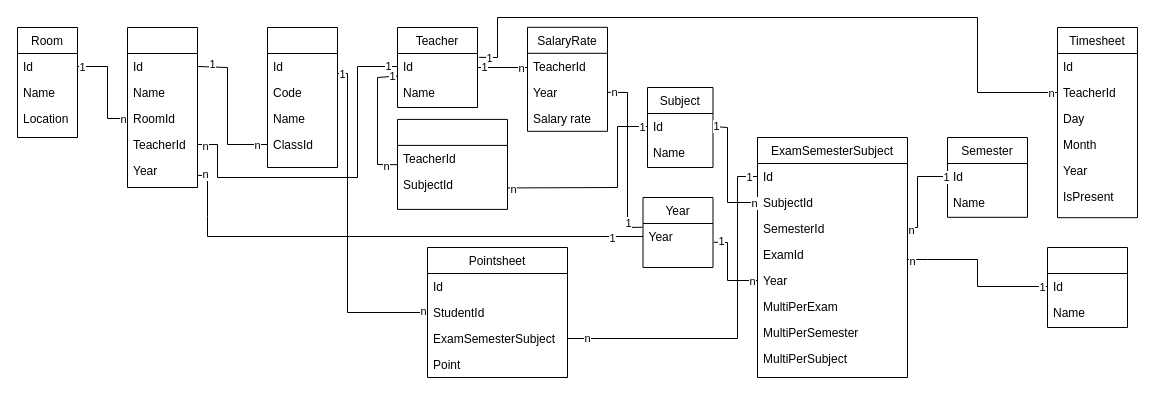
Some shapes in this 1155 by 398 pixel diagram are drawn without their labels. The box of each missing label's shape, as (x1, y1, x2, y2) in pixels:
Class: (126, 26, 198, 188)
Exam: (1046, 246, 1128, 328)
Student: (266, 26, 338, 168)
TeacherSubject: (396, 118, 508, 209)
